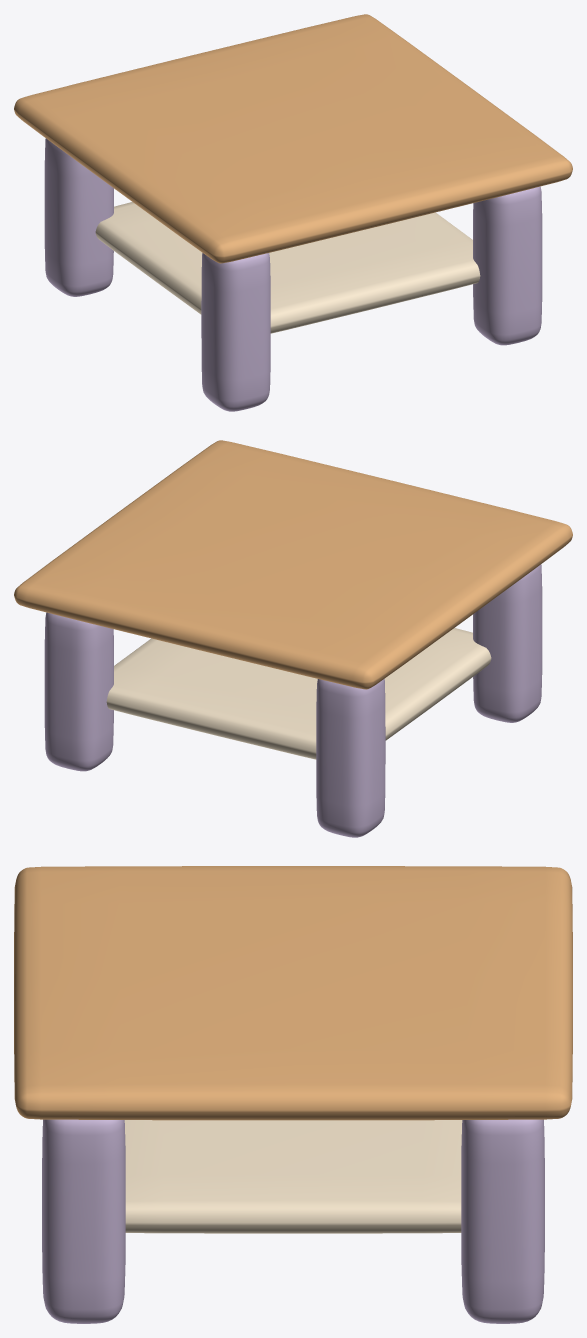
File: coffee_table_c.glb
3 views of the same model, one above another, from view 1: azimuth 30°, elevation 25°; view 2: azimuth 150°, elevation 25°; view 3: azimuth 270°, elevation 25° (orthographic). The views are drawn at different scales.
Parts seen in each view (by area): view 1: body; view 2: body; view 3: body.
Boxes of the visible parts, x1,y1,x2,y2 form: body: (14, 14, 572, 411); body: (14, 440, 572, 837); body: (14, 866, 572, 1323).
Size of the model in its own units: 0.8 by 0.4 by 0.8.
